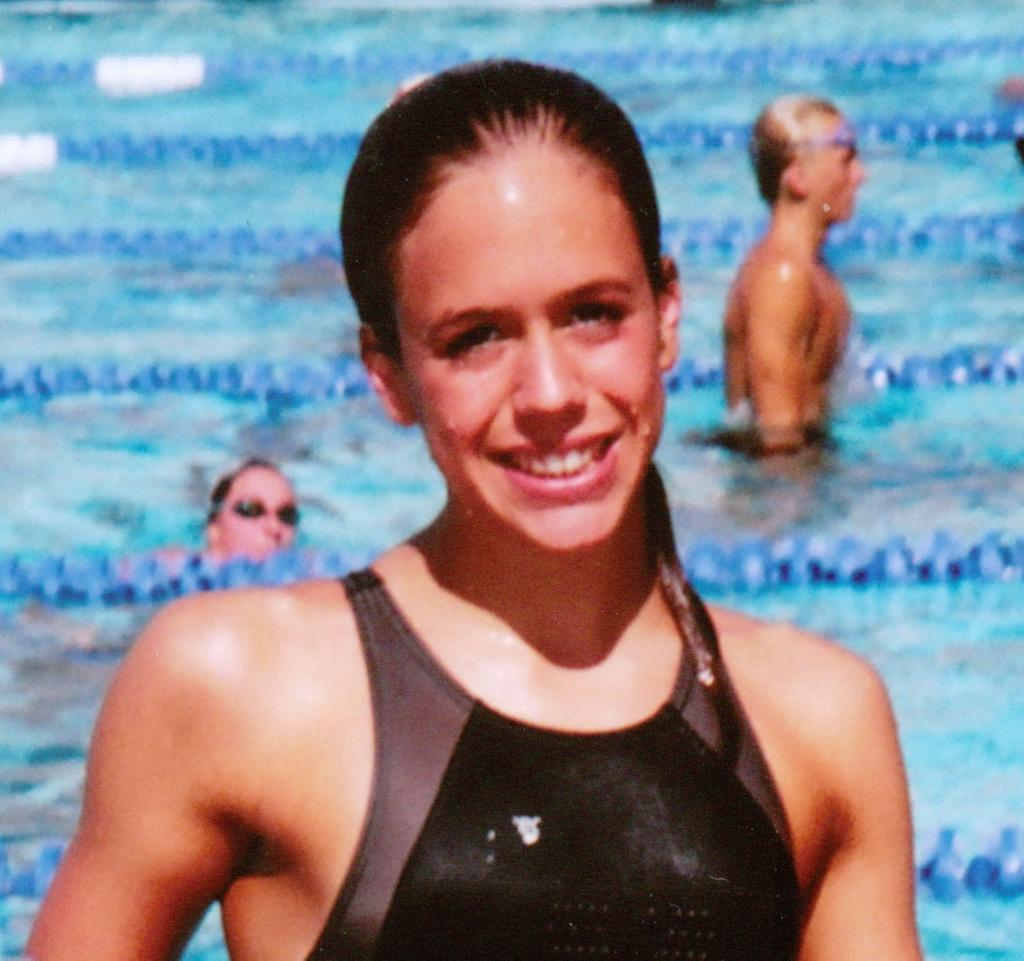face: (402, 190, 662, 550), (224, 476, 302, 564), (812, 122, 864, 218)
